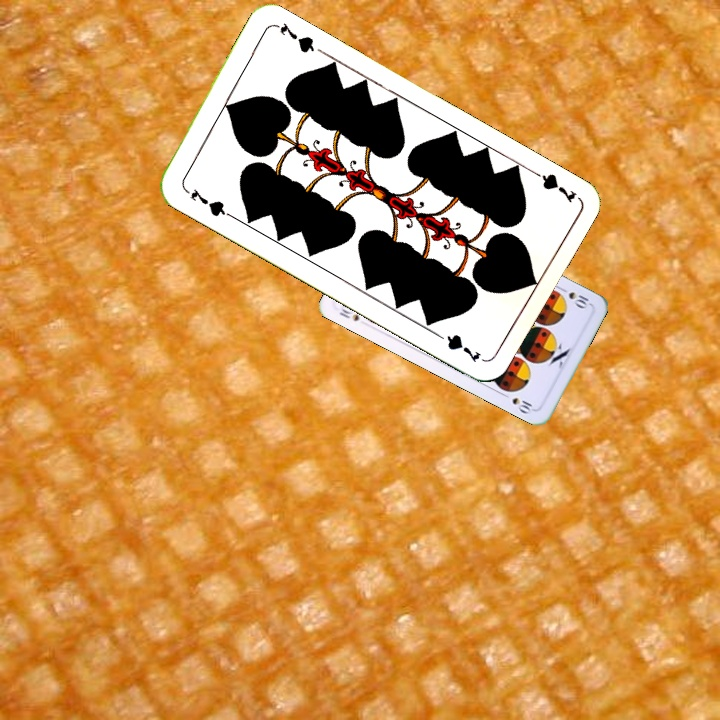G7: (524, 164, 579, 206), (179, 183, 233, 219)
S10: (555, 283, 591, 311), (335, 300, 362, 324)
